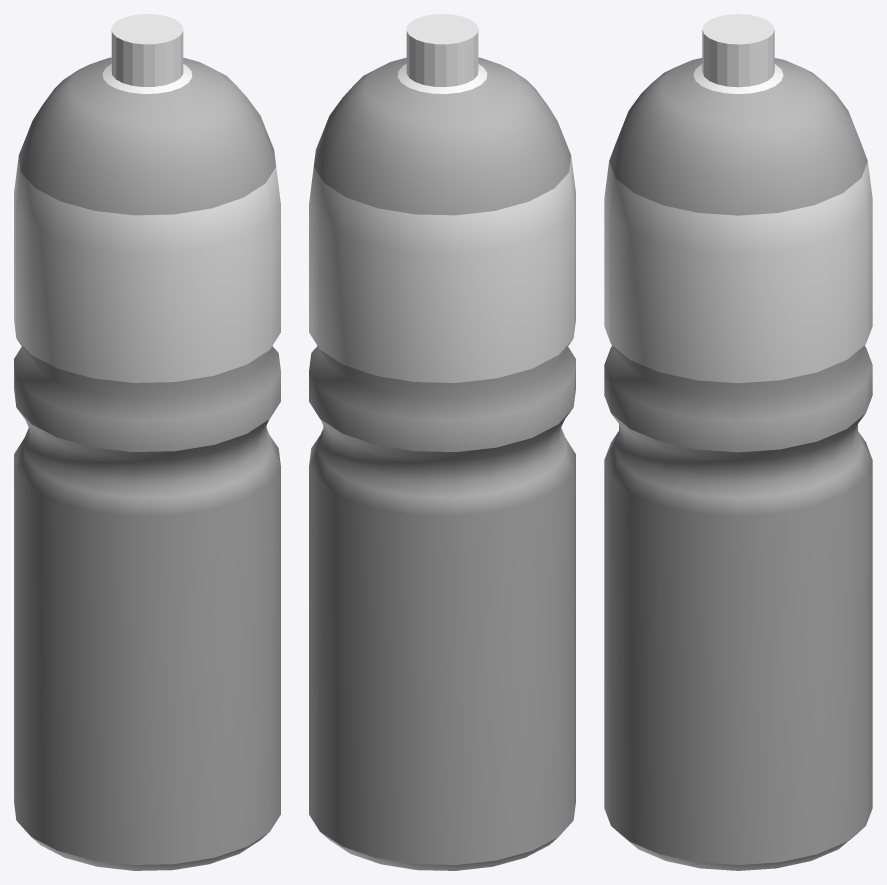
Rendered from PET bottle.fbx.
3 views of the same model, side by side, from view 1: azimuth 30°, elevation 25°; view 2: azimuth 150°, elevation 25°; view 3: azimuth 270°, elevation 25° (orthographic).
Visible parts, largest first — view 1: pCylinder1; view 2: pCylinder1; view 3: pCylinder1.
Part boxes in pixels (left/top/right/bottom): pCylinder1: left=14, top=14, right=280, bottom=870; pCylinder1: left=309, top=14, right=575, bottom=870; pCylinder1: left=604, top=14, right=872, bottom=870.
Size of the model in its own units: 0.4396 by 1.45 by 0.4396.
